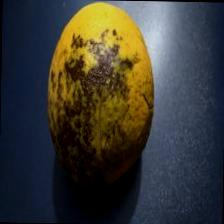Orange Rotten: (33, 0, 166, 195)
